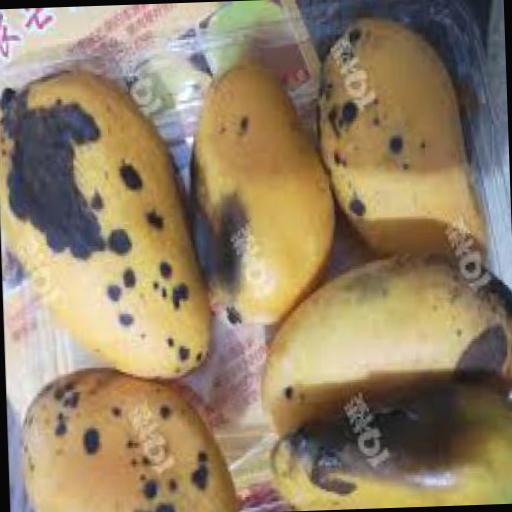biodegradable: (0, 67, 209, 390), (253, 252, 512, 436), (306, 24, 489, 270), (178, 62, 336, 332), (265, 381, 512, 510), (13, 368, 234, 512)
